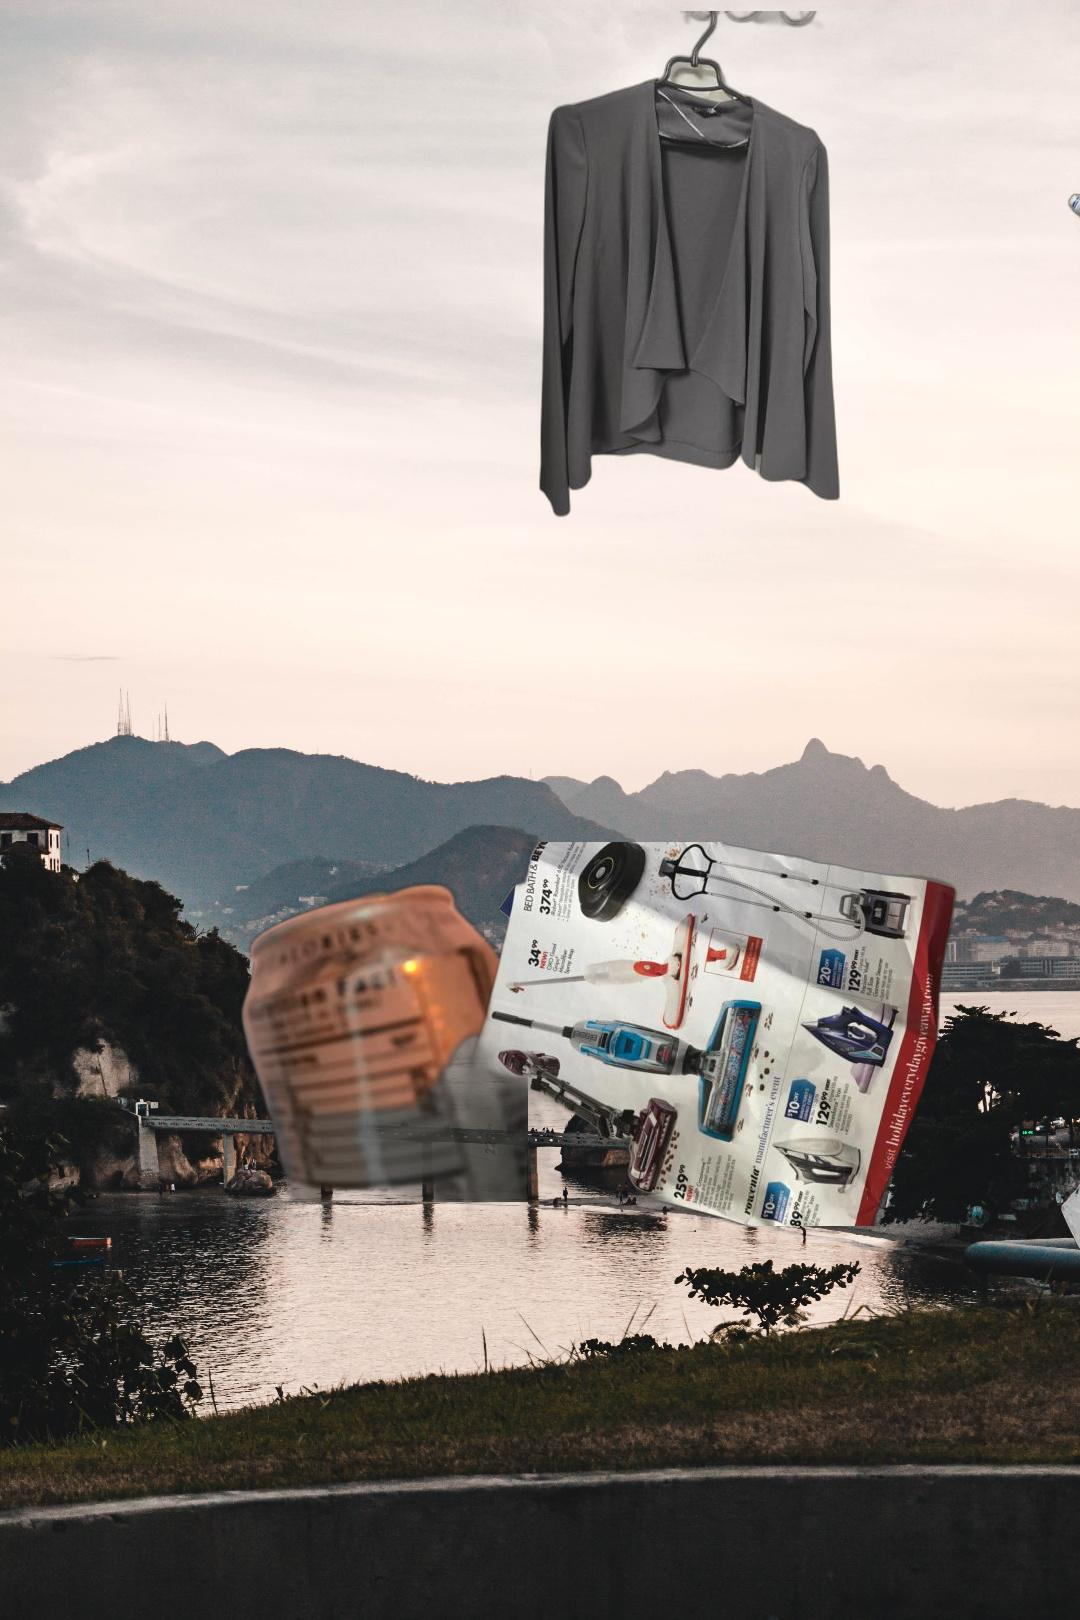clothes: (537, 11, 842, 522)
metal-cans: (235, 878, 528, 1202)
paper: (456, 842, 968, 1226)
plastic-bag: (1058, 1087, 1080, 1293)
plastic-bottles: (1065, 189, 1080, 318), (245, 1616, 489, 1620)
trashbox-cardboard: (847, 1613, 1080, 1620)
